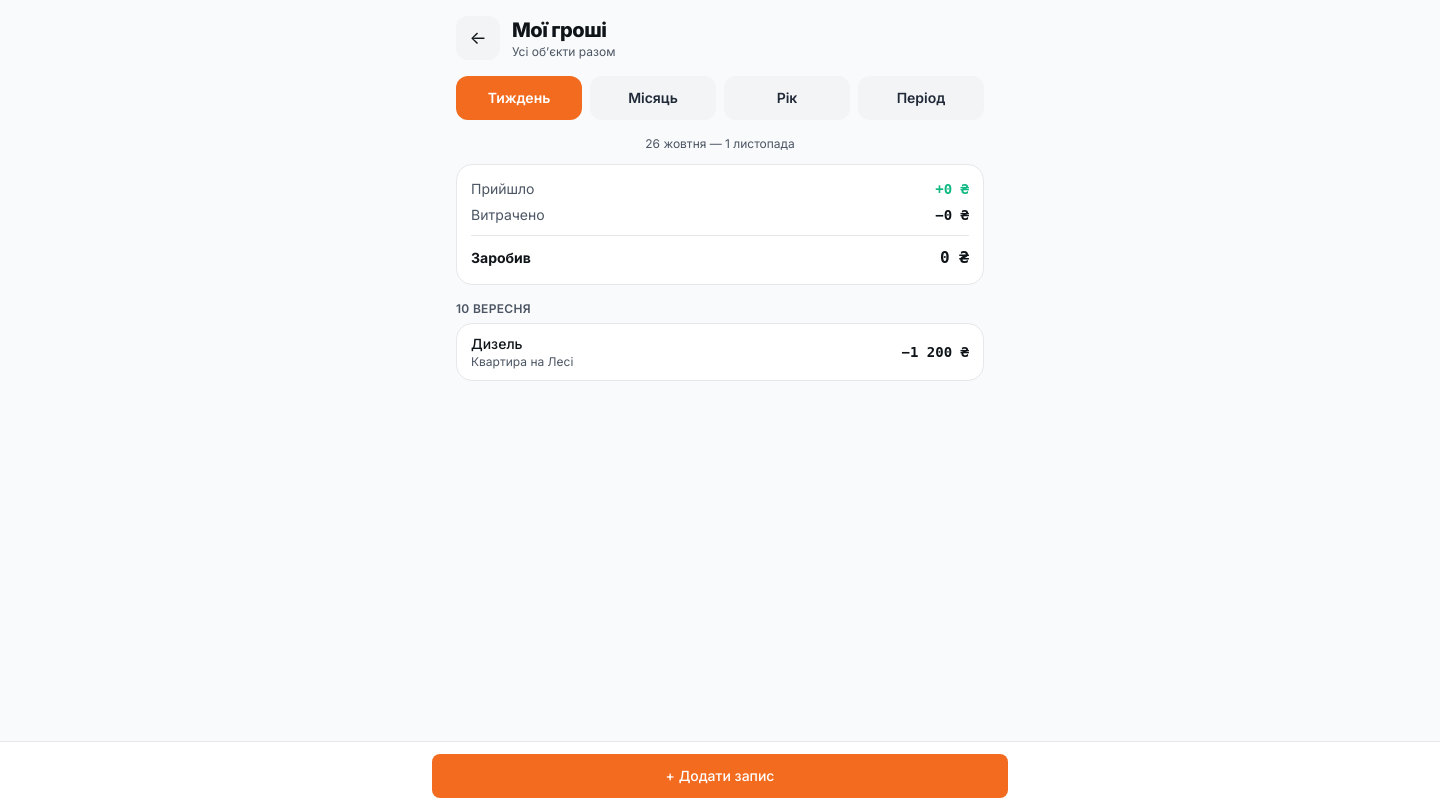
Test: CashFlowPage › offers an object expense only the categories its own table has
The width and height of the screenshot is (1440, 810).
Click the text "Дизель": (497, 344) [471, 335, 522, 352]
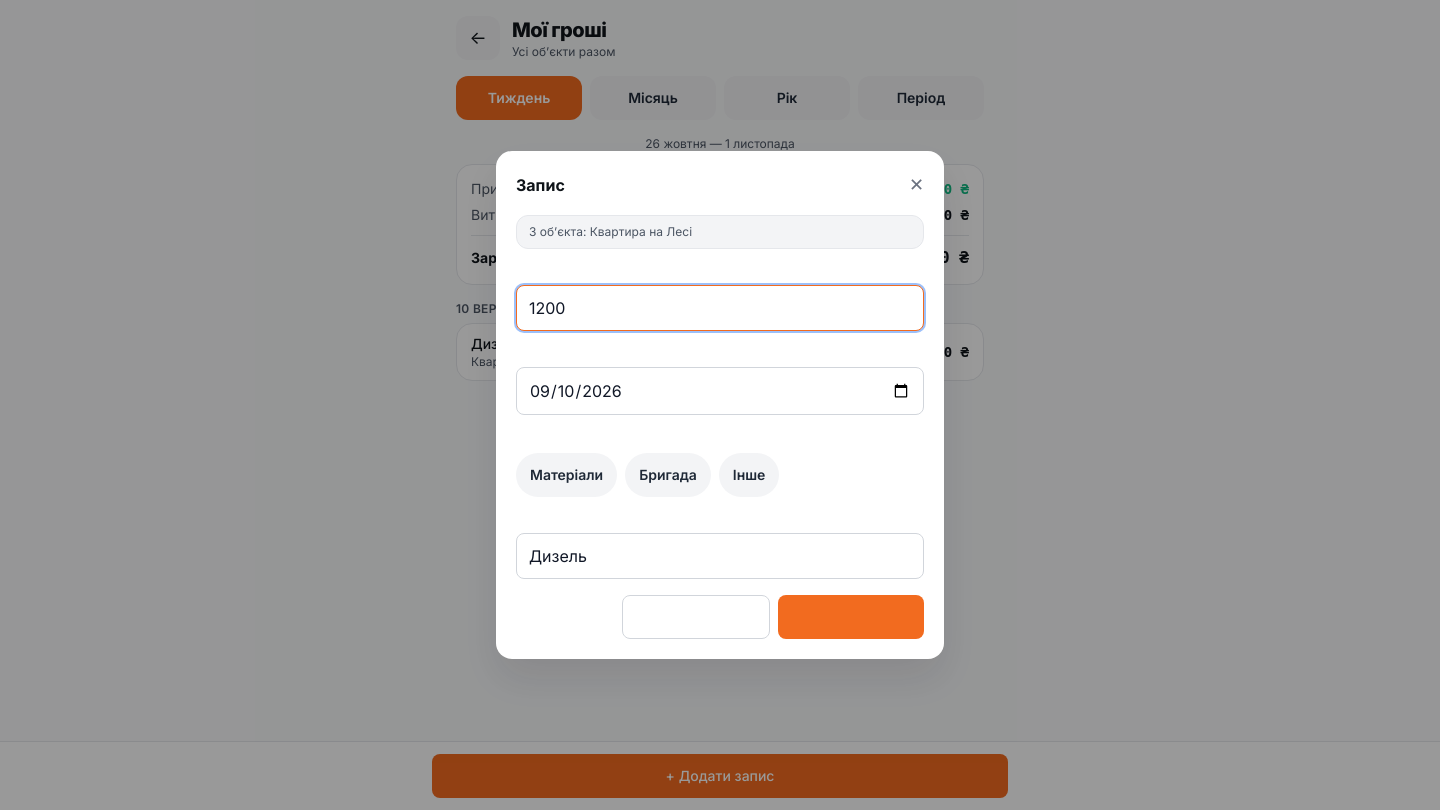
Expected: the button "Матеріали" is shown, [516, 453, 617, 497]
Expected: the button "Бригада" is shown, [625, 453, 711, 497]
Expected: the button "Інше" is shown, [719, 453, 779, 497]
